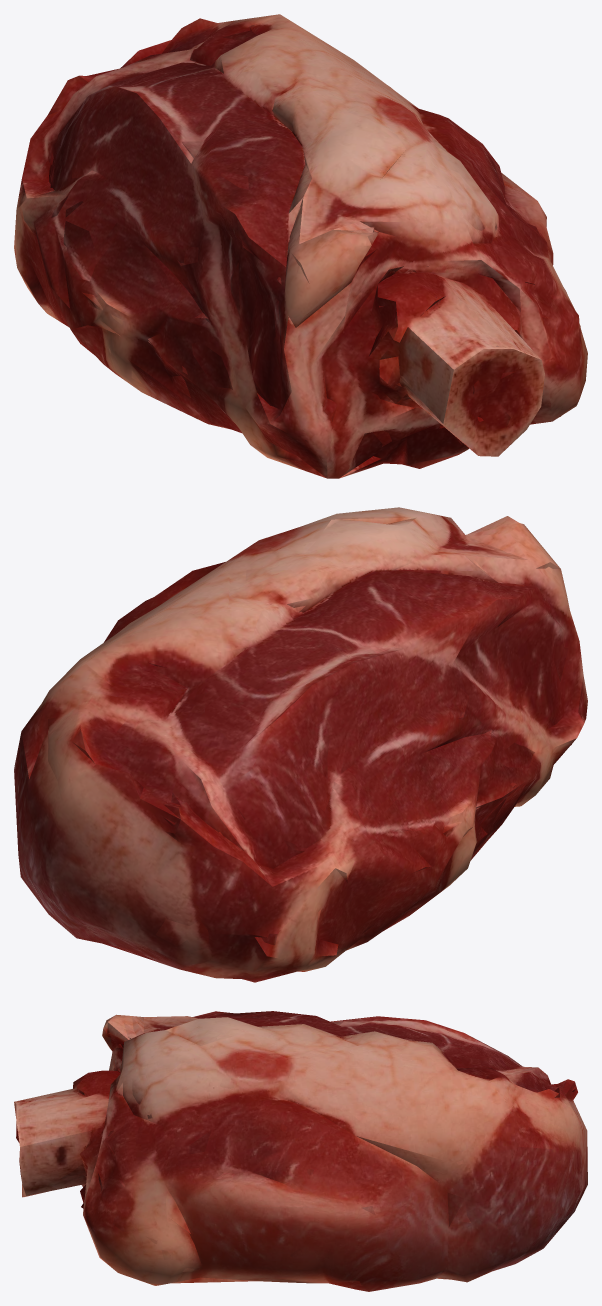
3 renders of one model, top to bottom at view 1: azimuth 30°, elevation 25°; view 2: azimuth 150°, elevation 25°; view 3: azimuth 270°, elevation 25°, orthographic. The views are drawn at different scales.
Visible parts, largest first — view 1: mammoth-meat; view 2: mammoth-meat; view 3: mammoth-meat.
Boxes of the visible parts, x1=… form: mammoth-meat: x1=14, y1=14, x2=587, y2=478; mammoth-meat: x1=14, y1=507, x2=587, y2=982; mammoth-meat: x1=14, y1=1011, x2=587, y2=1291.
Size of the model in its own units: 0.3263 by 0.2265 by 0.5481.
Materials: 1 (1 with a texture image).
